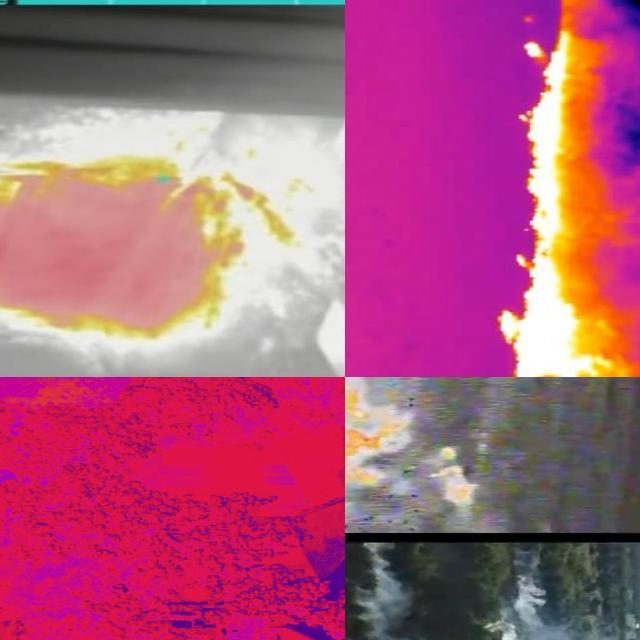fire: (1, 153, 308, 349), (496, 1, 630, 378), (433, 448, 479, 508)
